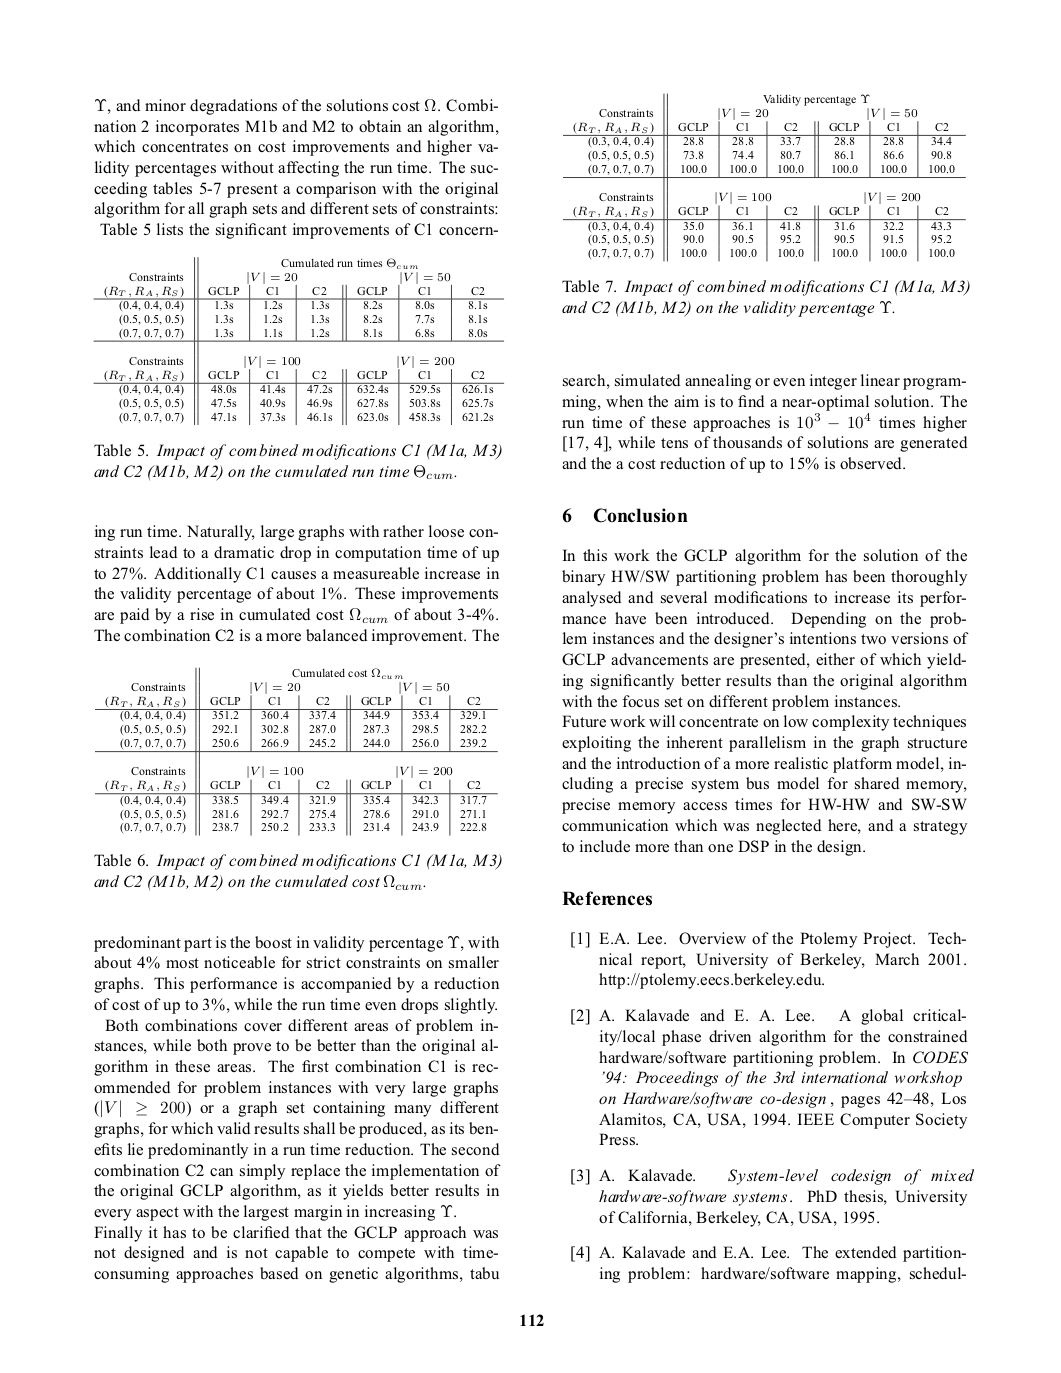Table: (93, 256, 504, 425), (95, 666, 497, 836), (563, 92, 965, 262)
